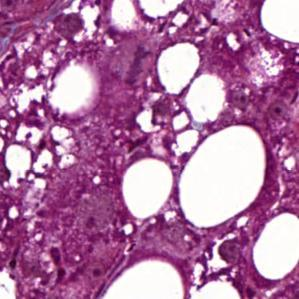steatosis: (179, 126, 267, 232), (98, 255, 189, 299), (123, 157, 174, 220), (253, 213, 299, 281), (258, 0, 299, 45)
